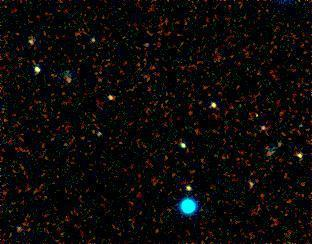star: (8, 212, 38, 242)
